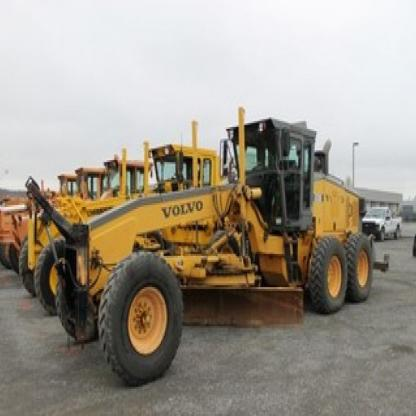bull_dozer/loader/grader: (33, 107, 403, 384)
